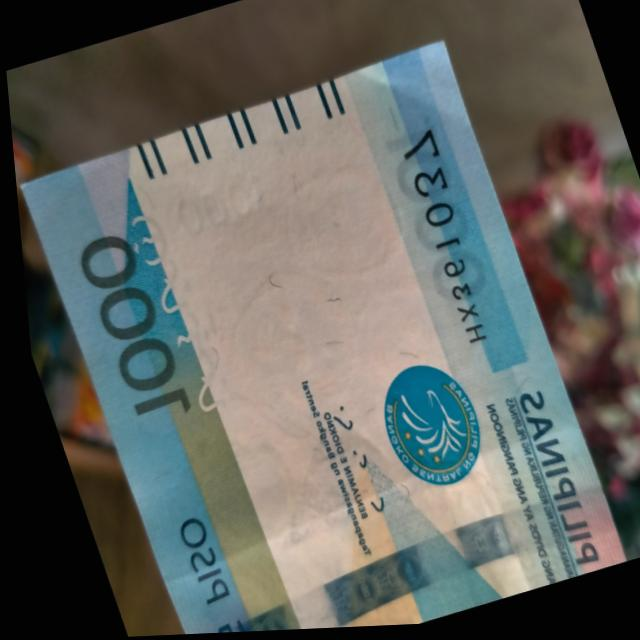security_thread: (146, 480, 620, 636)
see_through_mark: (111, 199, 243, 452)
value_watermark: (163, 167, 285, 249)
watermark: (164, 138, 494, 451)
